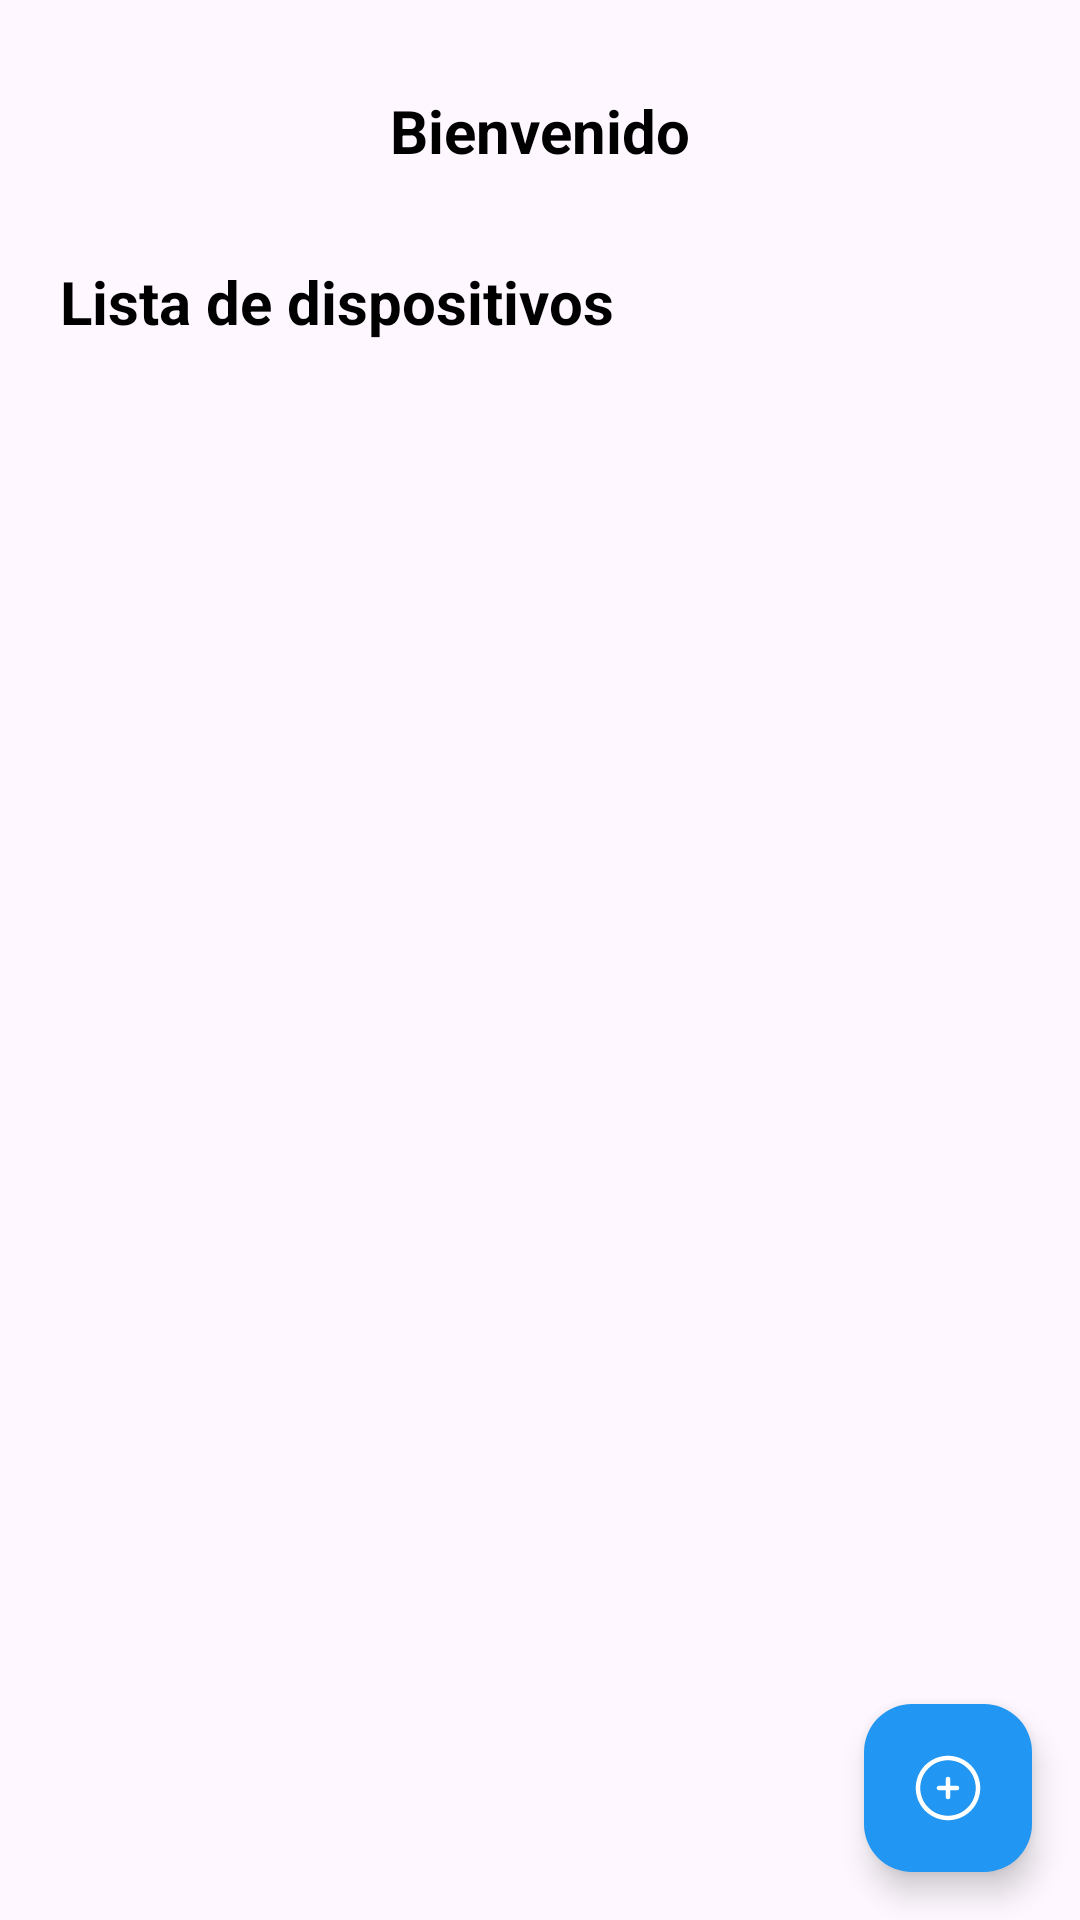

Screen size 1080 × 1920. Icon name, then its box in pixels as (x1, y1, x2, y2):
Vincular dispositivo: (864, 1704, 1032, 1872)
